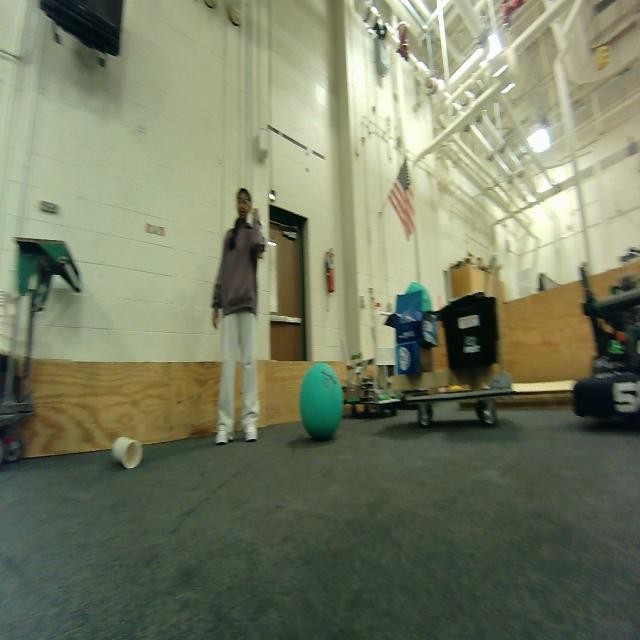algae: (299, 362, 343, 440)
